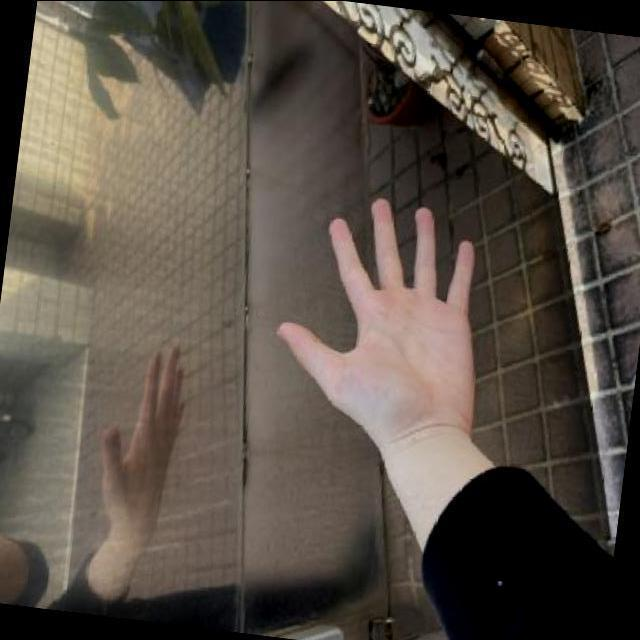hand: (250, 172, 536, 468), (62, 316, 215, 574)
